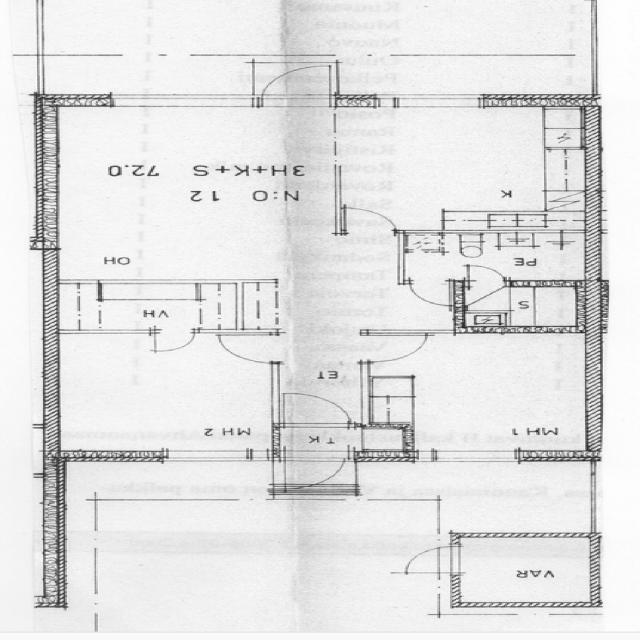door: (262, 58, 344, 106), (356, 328, 438, 366), (278, 391, 356, 429), (210, 330, 286, 365), (332, 203, 399, 238), (396, 544, 464, 577), (294, 456, 351, 486), (404, 279, 456, 308), (146, 328, 198, 356), (462, 262, 508, 286)
window: (96, 91, 262, 112), (361, 92, 486, 111), (580, 463, 608, 534), (157, 448, 259, 467), (422, 447, 524, 466), (21, 0, 51, 54)
zone: (50, 100, 339, 333), (334, 106, 588, 230), (46, 333, 280, 458), (366, 332, 589, 459), (454, 536, 600, 606), (400, 232, 588, 283), (147, 0, 283, 58), (450, 282, 585, 334), (39, 0, 150, 57), (209, 330, 287, 365)
